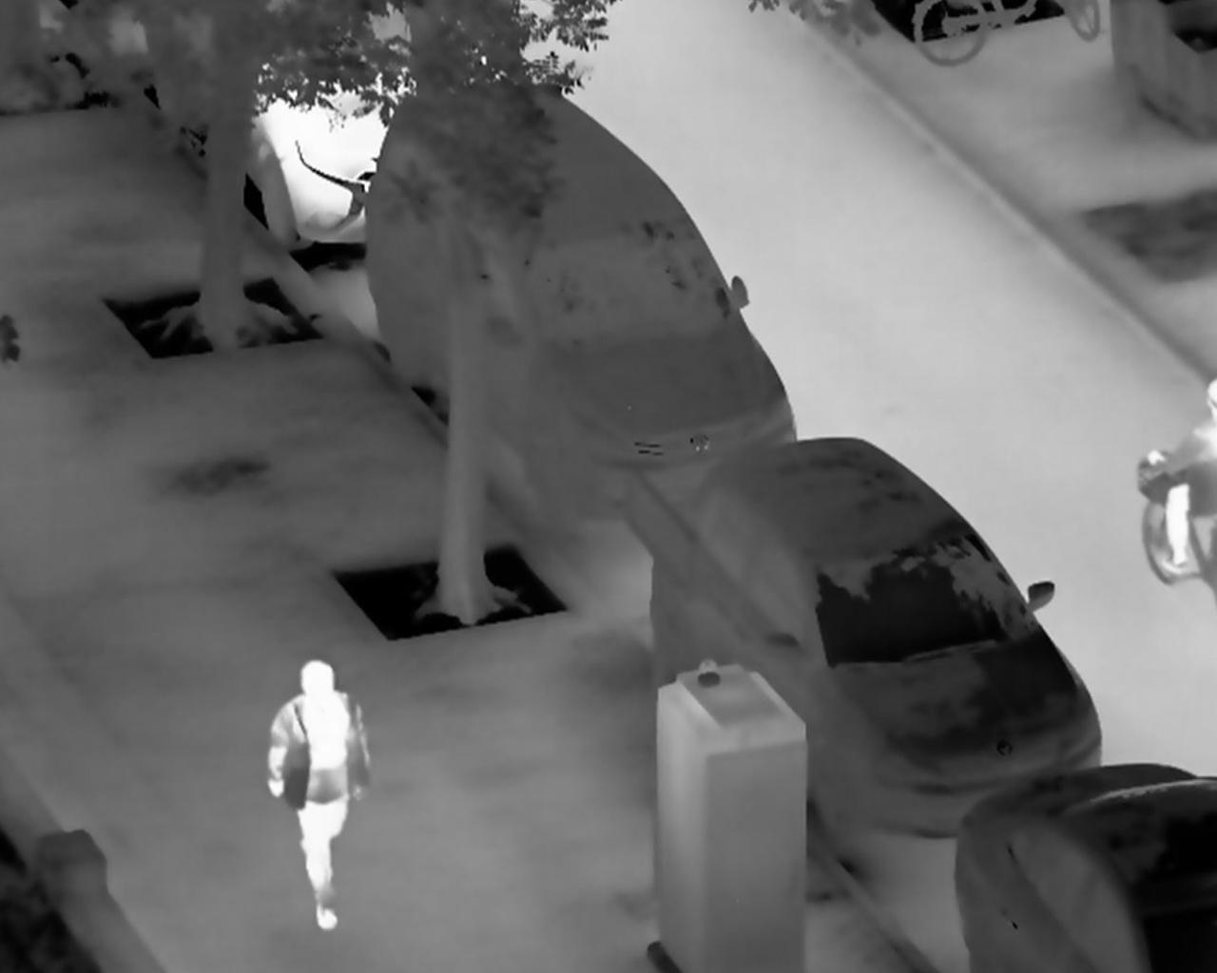person: (266, 658, 382, 932), (1138, 372, 1217, 578)
